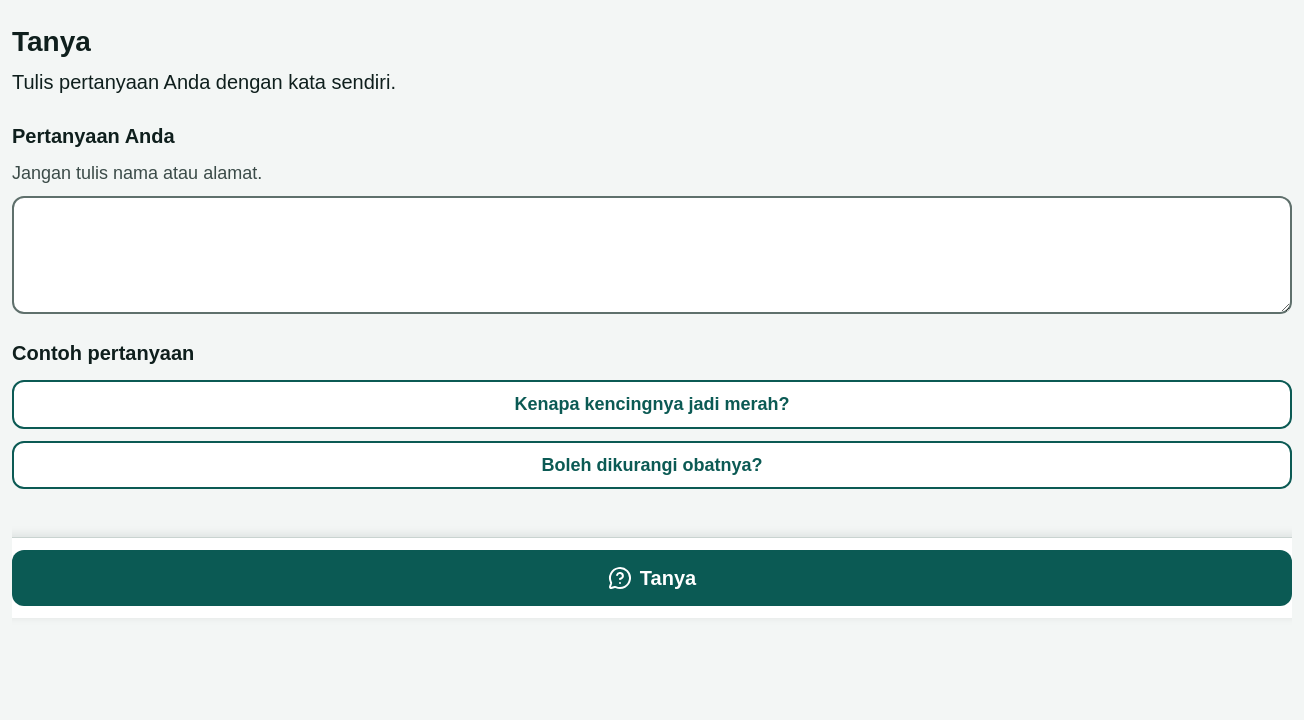
'Tanya' mockup › asks for a question when it is empty
Click the button "Tanya" at (652, 578), box 12,550 -> 1292,606
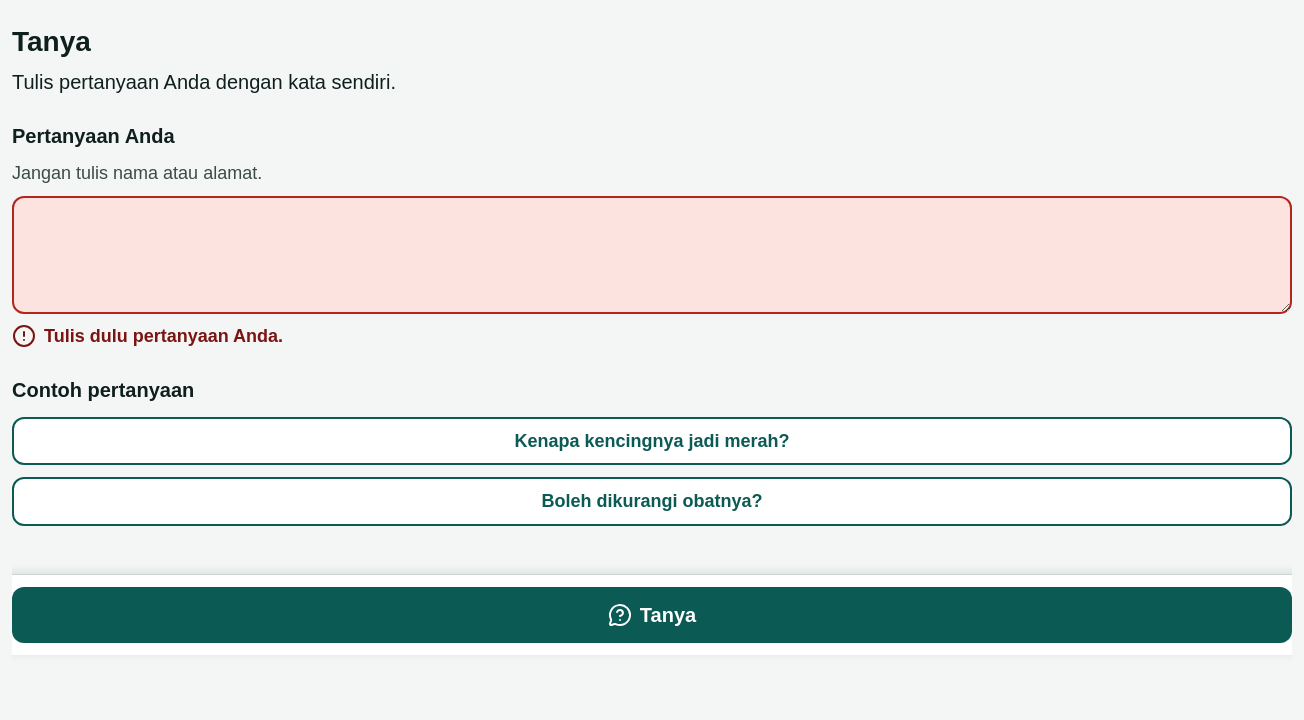
Expected: the message reads "Tulis dulu pertanyaan Anda.", 44,326 -> 283,346
